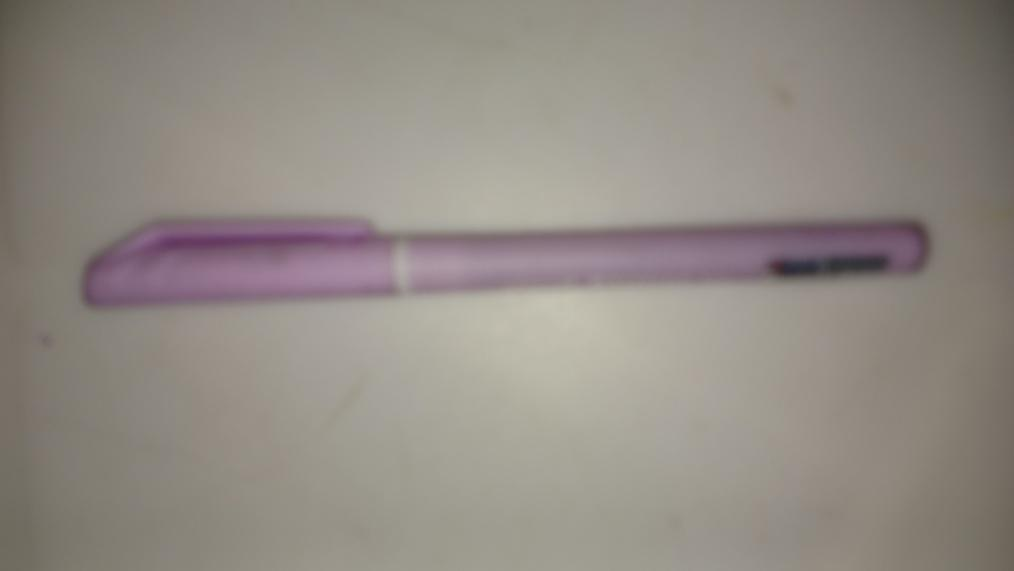pen: (71, 217, 930, 309)
